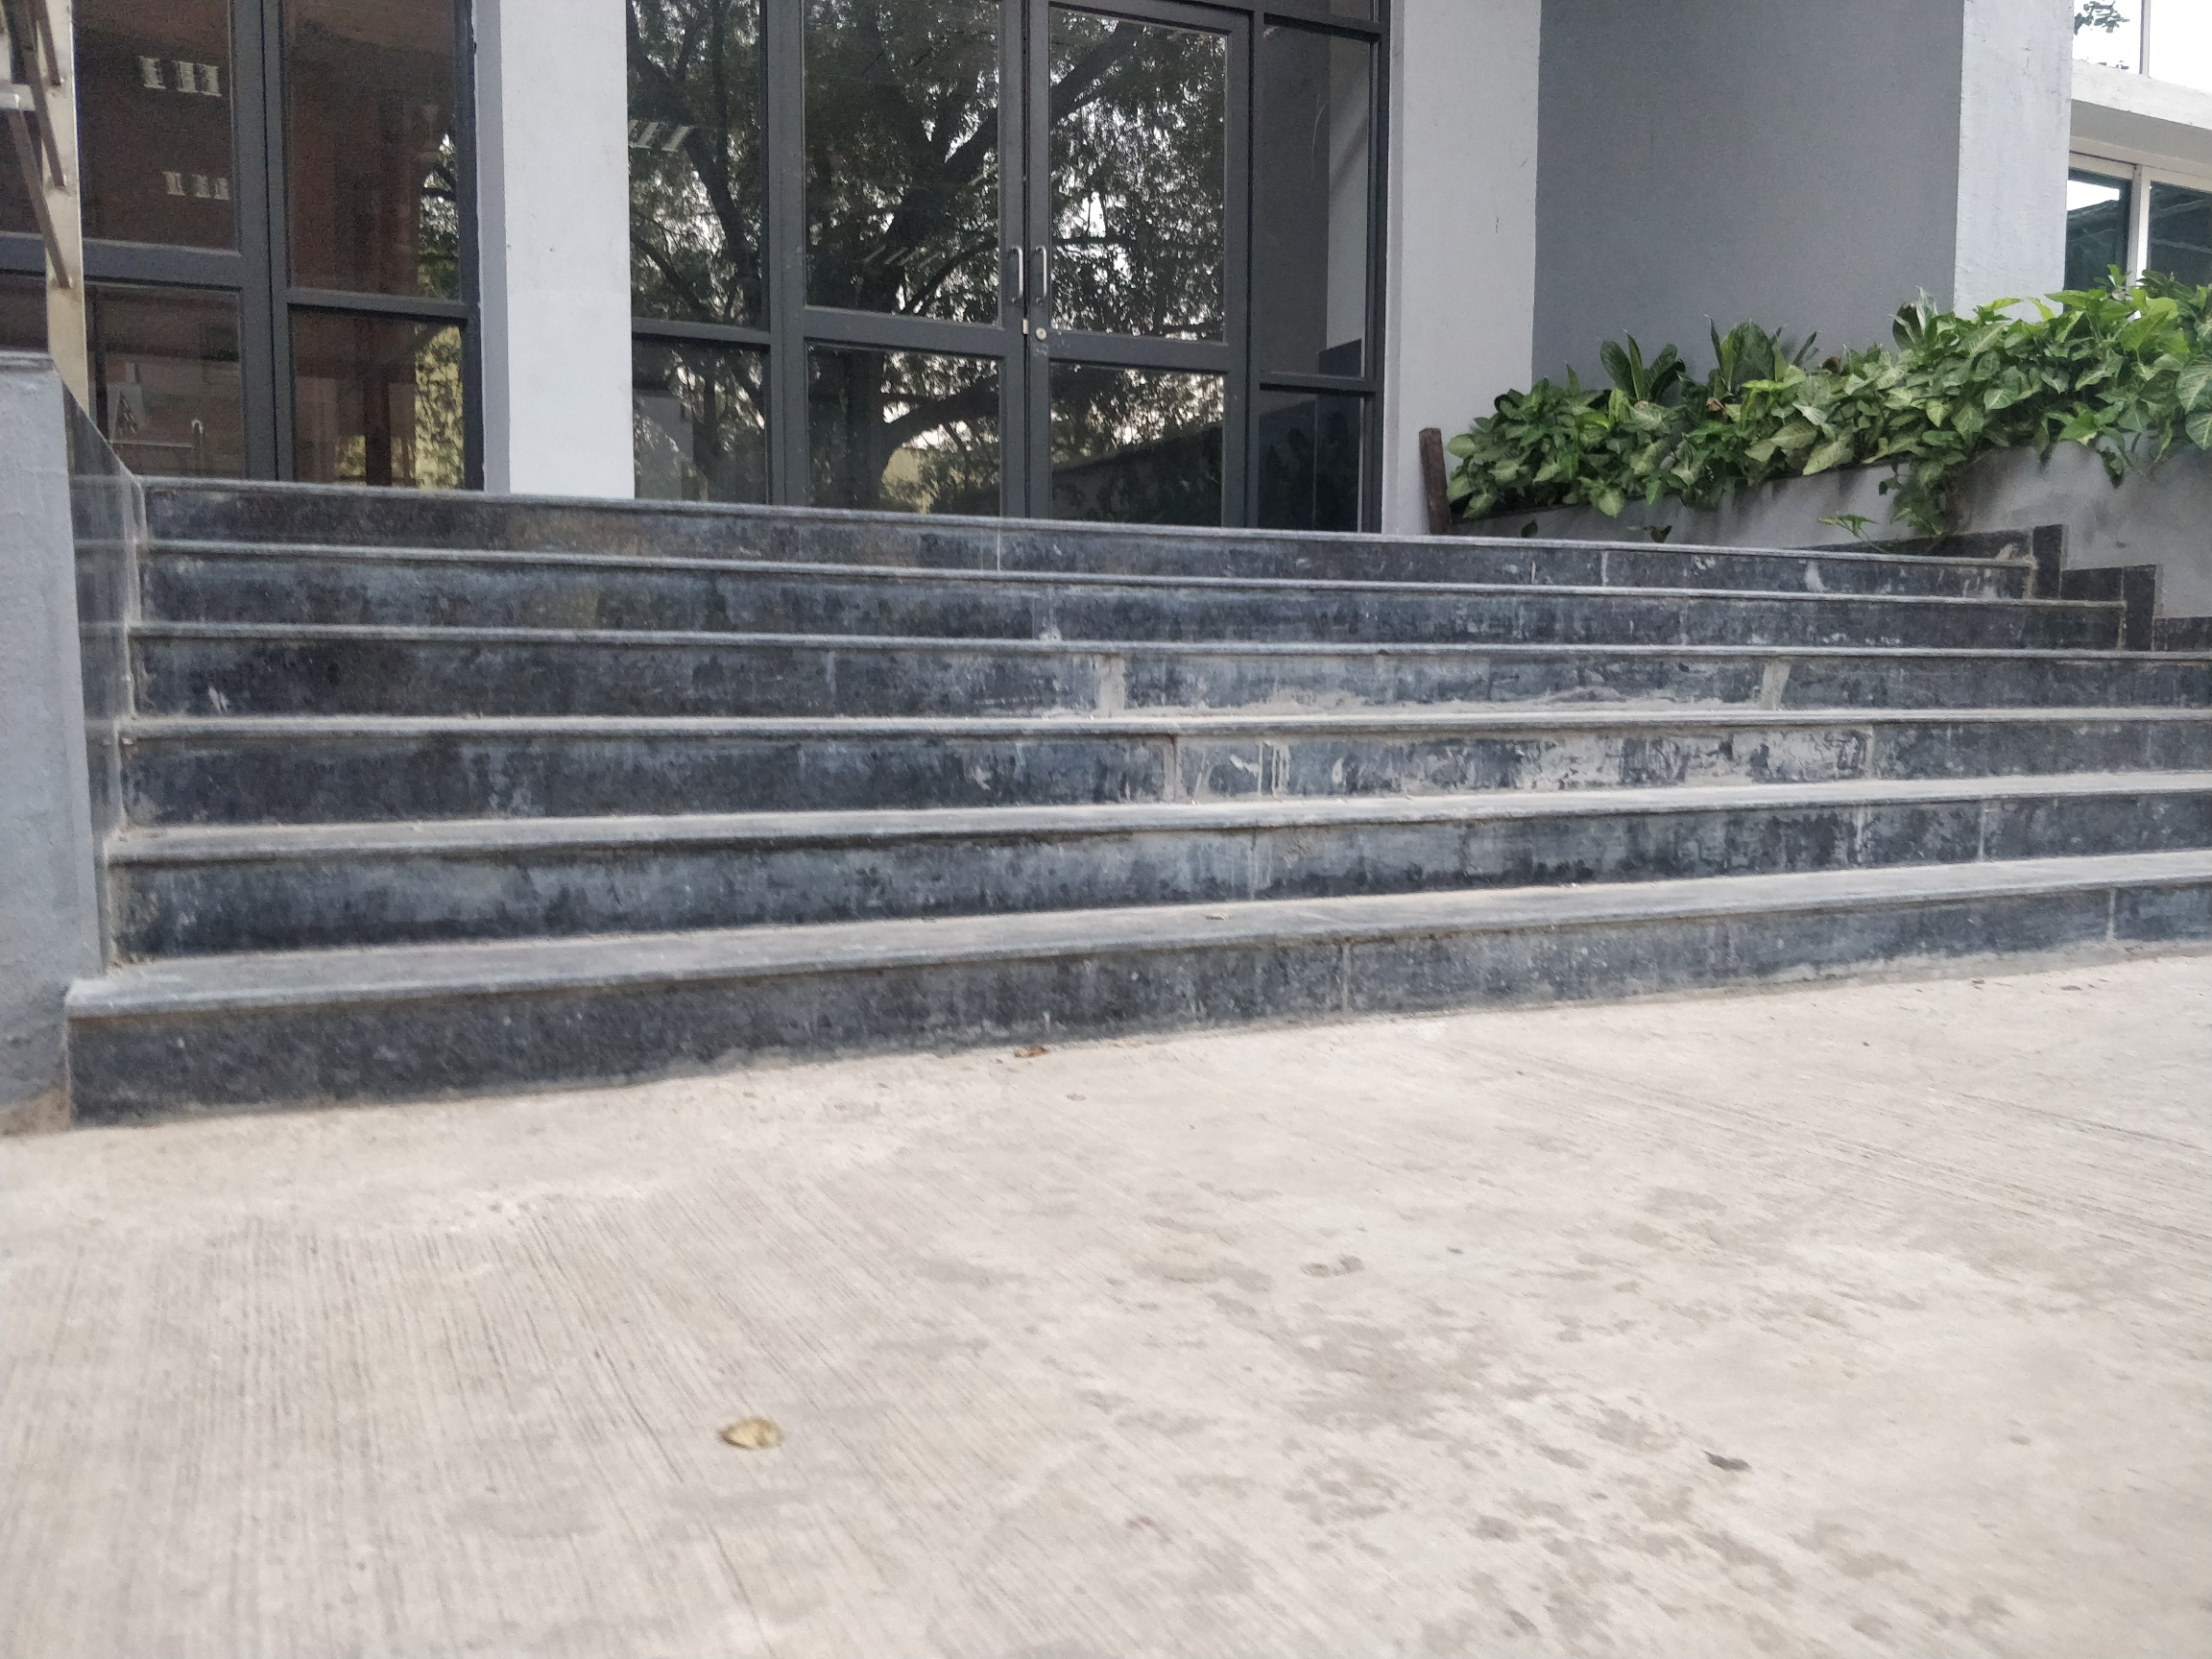stairs_up: (70, 465, 2205, 1105)
